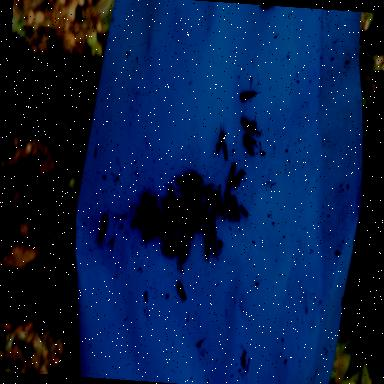pbw: (239, 107, 257, 135), (98, 206, 110, 246), (168, 201, 184, 230), (140, 225, 160, 246), (185, 166, 204, 188), (186, 200, 202, 225), (184, 214, 195, 248), (142, 196, 158, 219), (215, 195, 228, 220), (225, 161, 236, 190), (239, 90, 261, 104), (230, 194, 241, 221), (192, 180, 204, 204), (206, 210, 218, 234), (198, 196, 211, 218), (139, 188, 149, 215), (176, 280, 188, 302), (134, 210, 152, 224), (200, 180, 216, 195), (178, 246, 190, 266), (162, 193, 176, 210), (179, 186, 192, 204), (242, 132, 258, 146), (182, 172, 196, 188), (222, 198, 232, 220), (232, 168, 242, 190), (188, 186, 198, 208), (210, 196, 218, 222), (242, 140, 255, 156), (210, 239, 222, 256), (194, 212, 208, 226), (168, 228, 182, 242), (147, 210, 160, 225), (193, 221, 209, 233), (184, 230, 192, 254), (170, 240, 182, 256), (160, 237, 174, 249), (138, 220, 153, 231), (187, 212, 195, 232), (206, 188, 222, 198), (176, 237, 187, 251), (178, 204, 189, 218), (163, 213, 177, 224), (203, 233, 216, 244), (159, 212, 170, 225), (176, 176, 190, 186), (181, 217, 188, 237), (161, 248, 175, 258), (156, 229, 171, 238), (238, 204, 249, 216), (222, 140, 228, 160), (176, 197, 188, 206), (158, 221, 170, 230), (204, 243, 210, 260)
